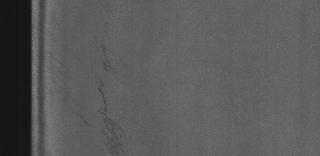water spot: (87, 42, 139, 154)
